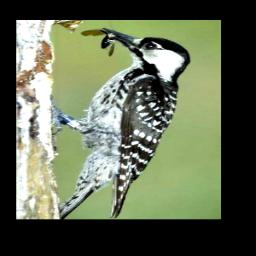Woodpecker: (50, 26, 190, 218)
